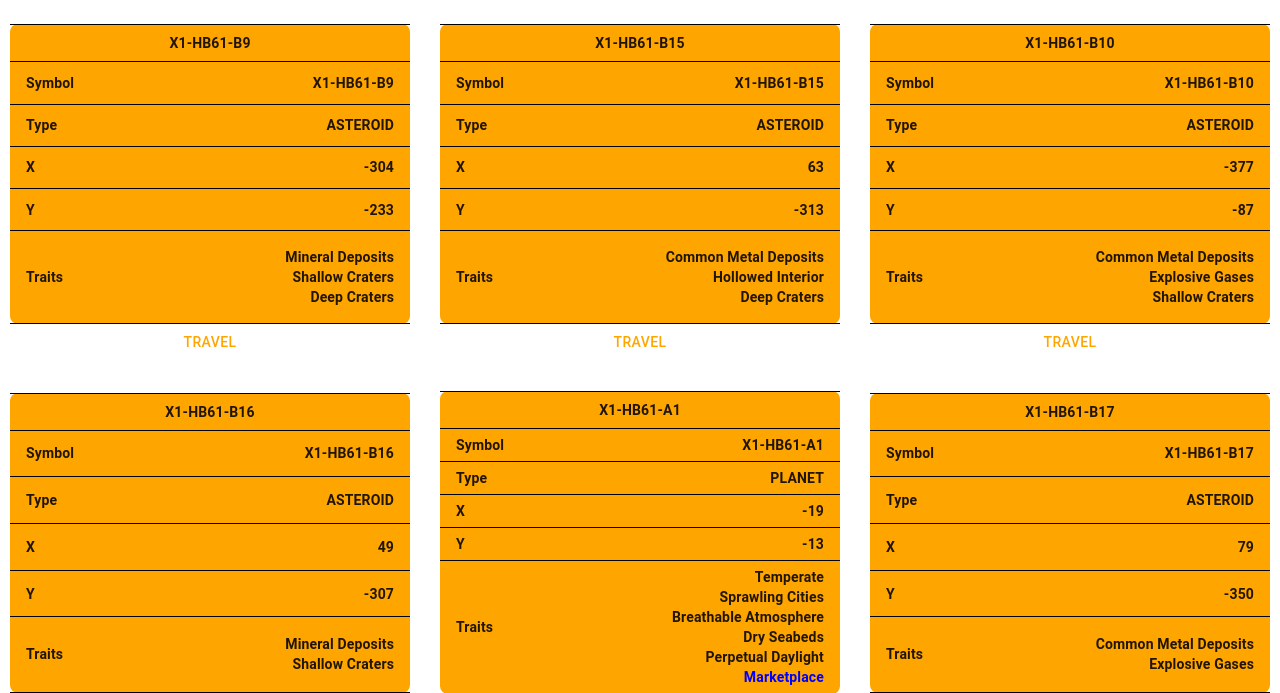
Test: Should click a system and navigate to that waypoint
(page scrolled)
Click the button with test id "test-travel-X1-HB61-B9" at (210, 343), box [176,324,244,361]
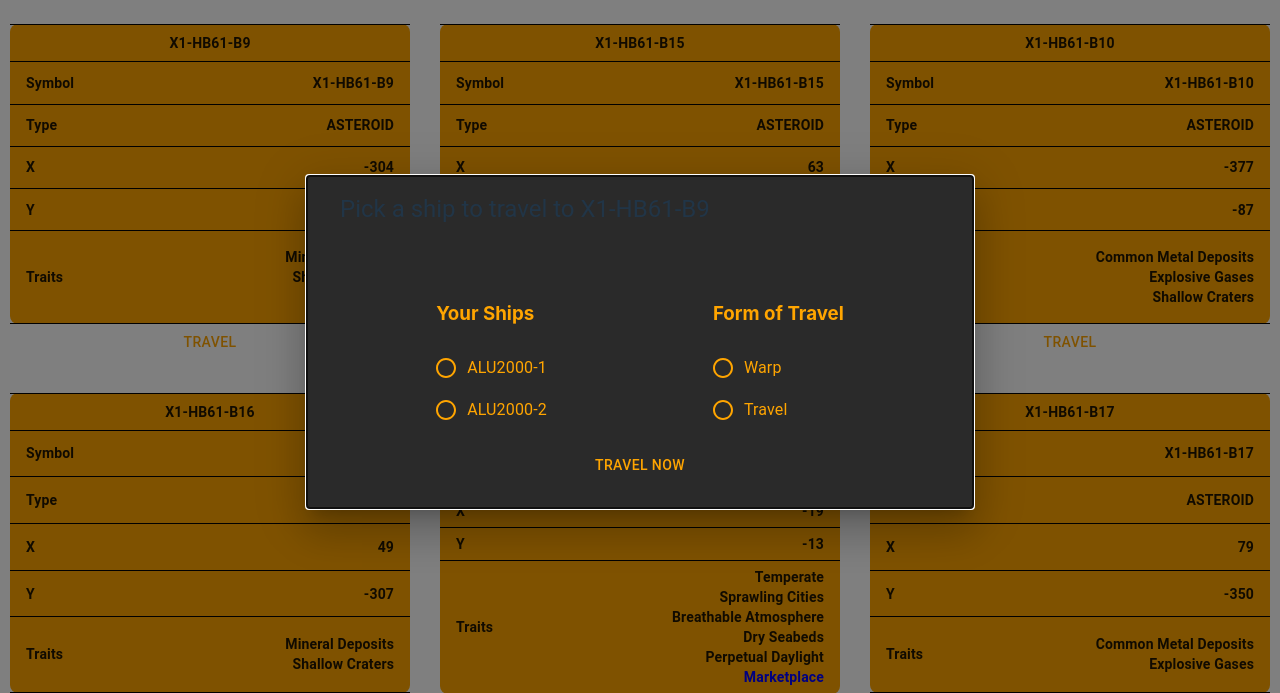
Expected: the heading "Pick a ship to travel to X1-HB61-B9" is shown, [340,195,710,223]
Expected: the text "ALU2000-1" is shown
Expected: the text "ALU2000-2" is shown, [467,398,547,422]
Click the text "ALU2000-1" at (507, 368), box [467,356,547,380]
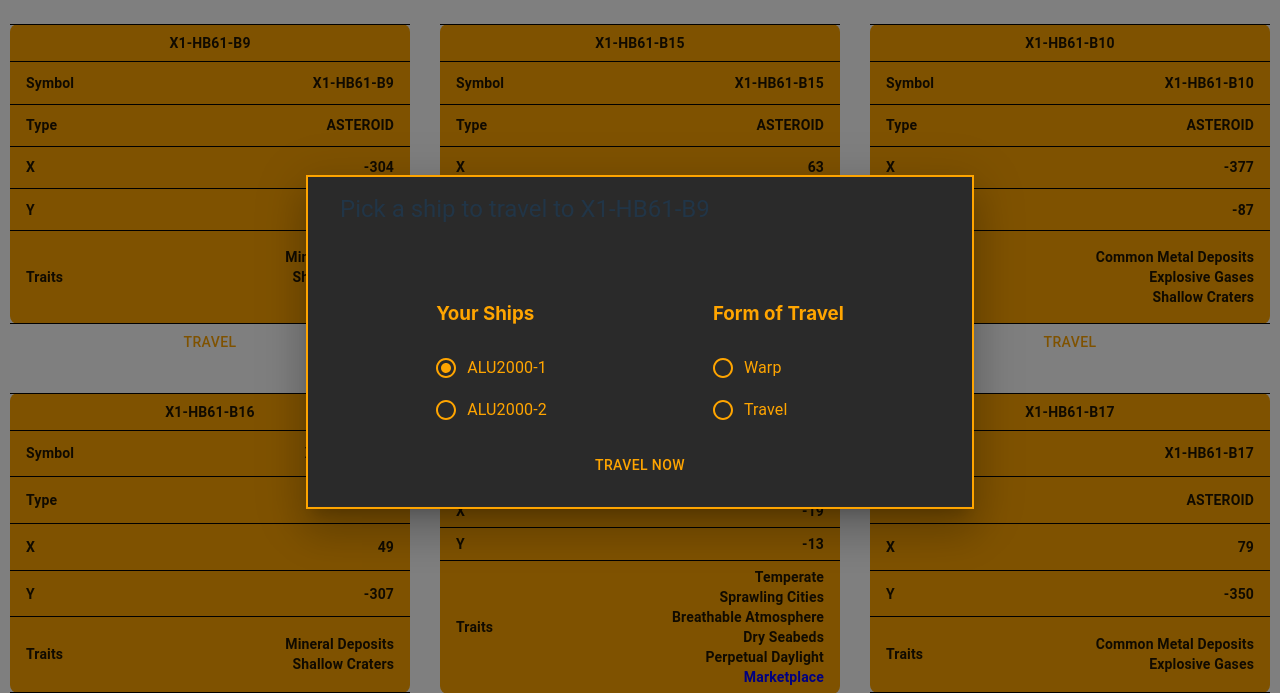
Click the radio button with test id "test-waypoint-travel" at (749, 410), box [711,398,788,422]
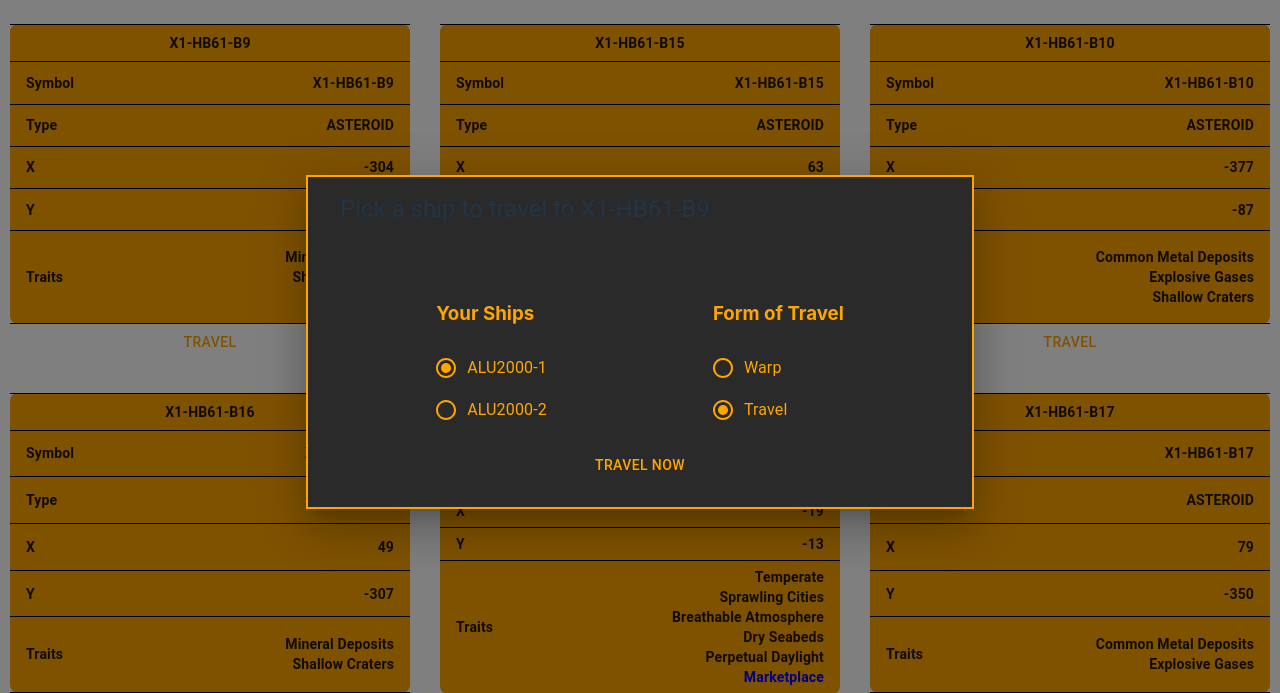
Click the button with test id "test-waypoint-travel-button" at (640, 465), box [587,446,693,483]
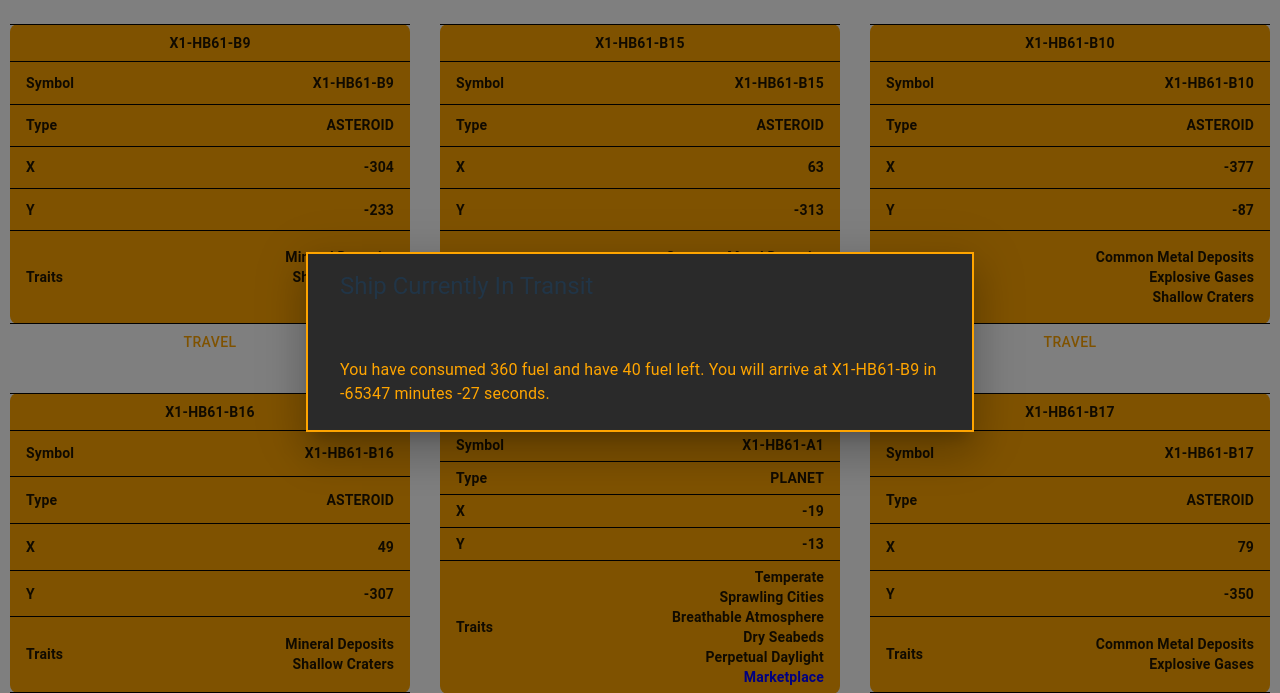
Expected: the heading "Ship Currently In Transit" is shown, [340,272,593,300]
Expected: the text "You will arrive at X1-HB61-B9" is shown, [340,360,936,403]
